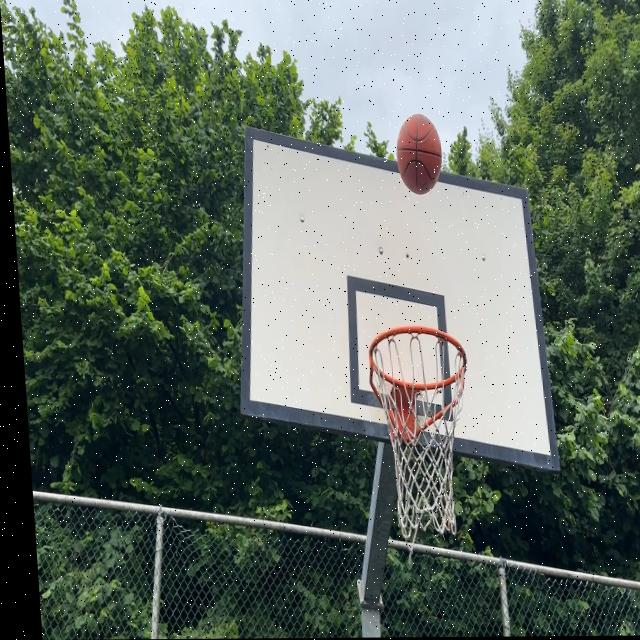Basketball: (395, 116, 446, 196)
